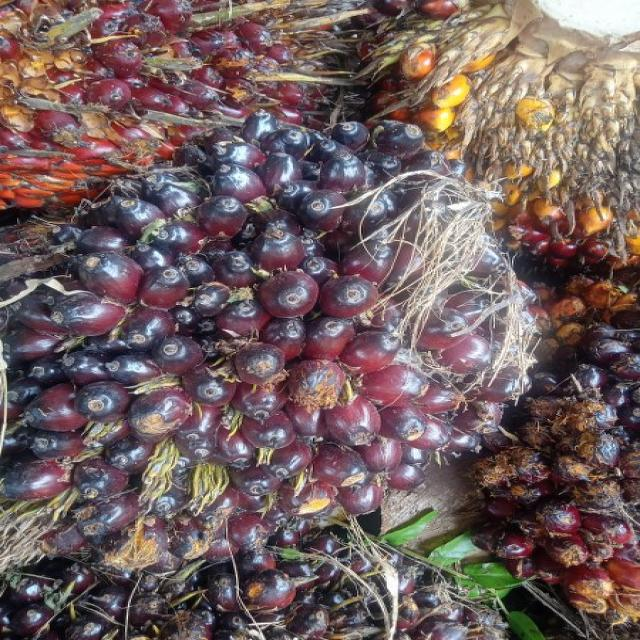fraksi 1: (0, 106, 542, 554)
